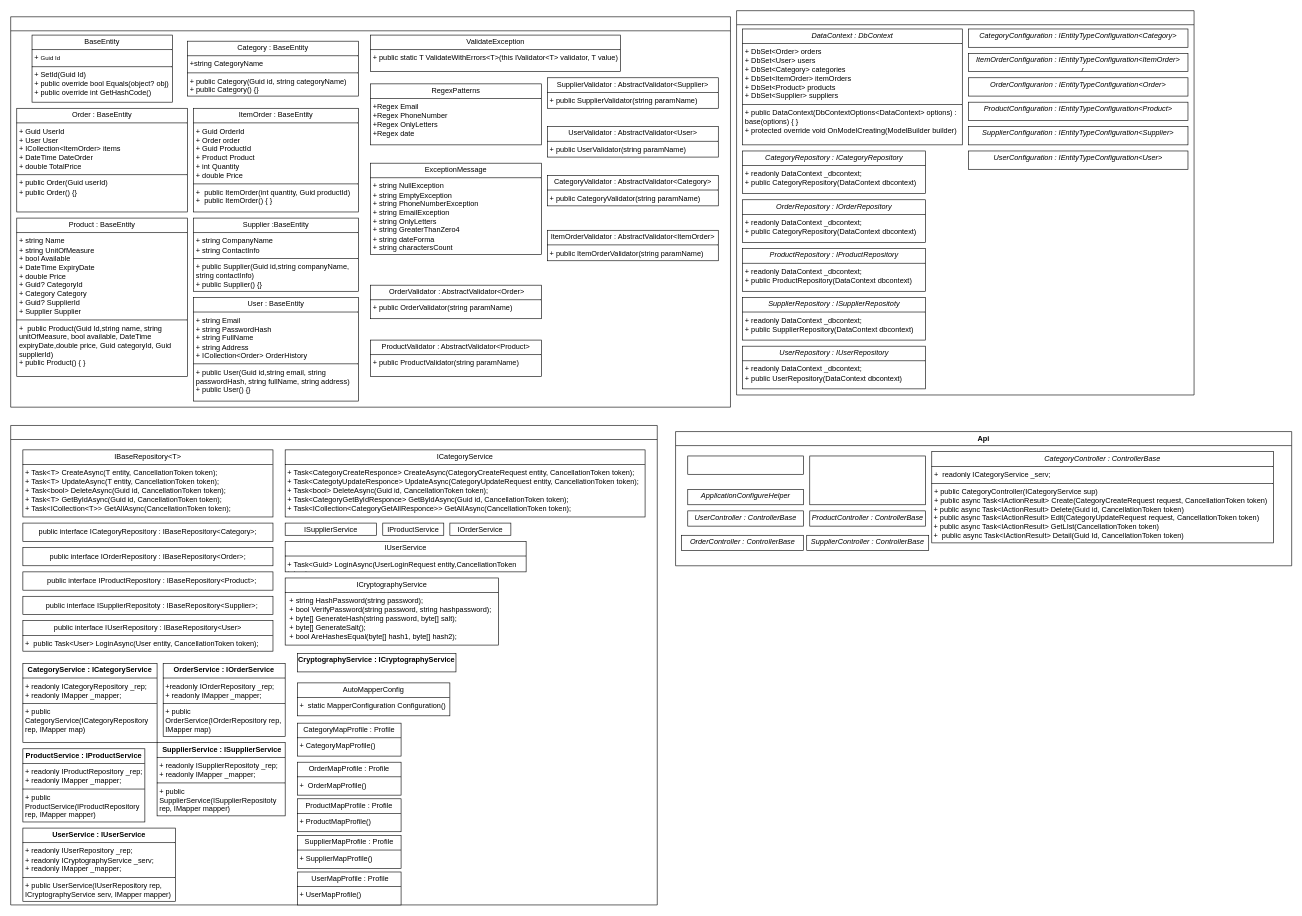
Some shapes in this 1302 by 916 pixel diagram are drawn without their labels. Here are the shapes that lost their labels. From the top down, the box of each, then its label:
(10, 16, 730, 407): Domain
(736, 10, 1194, 395): Infrastructure
(687, 455, 804, 474): Program
(809, 455, 926, 505): DependenciesHelper + InjectDepencies + AddServices + AddSwagger
(10, 425, 657, 905): Application
